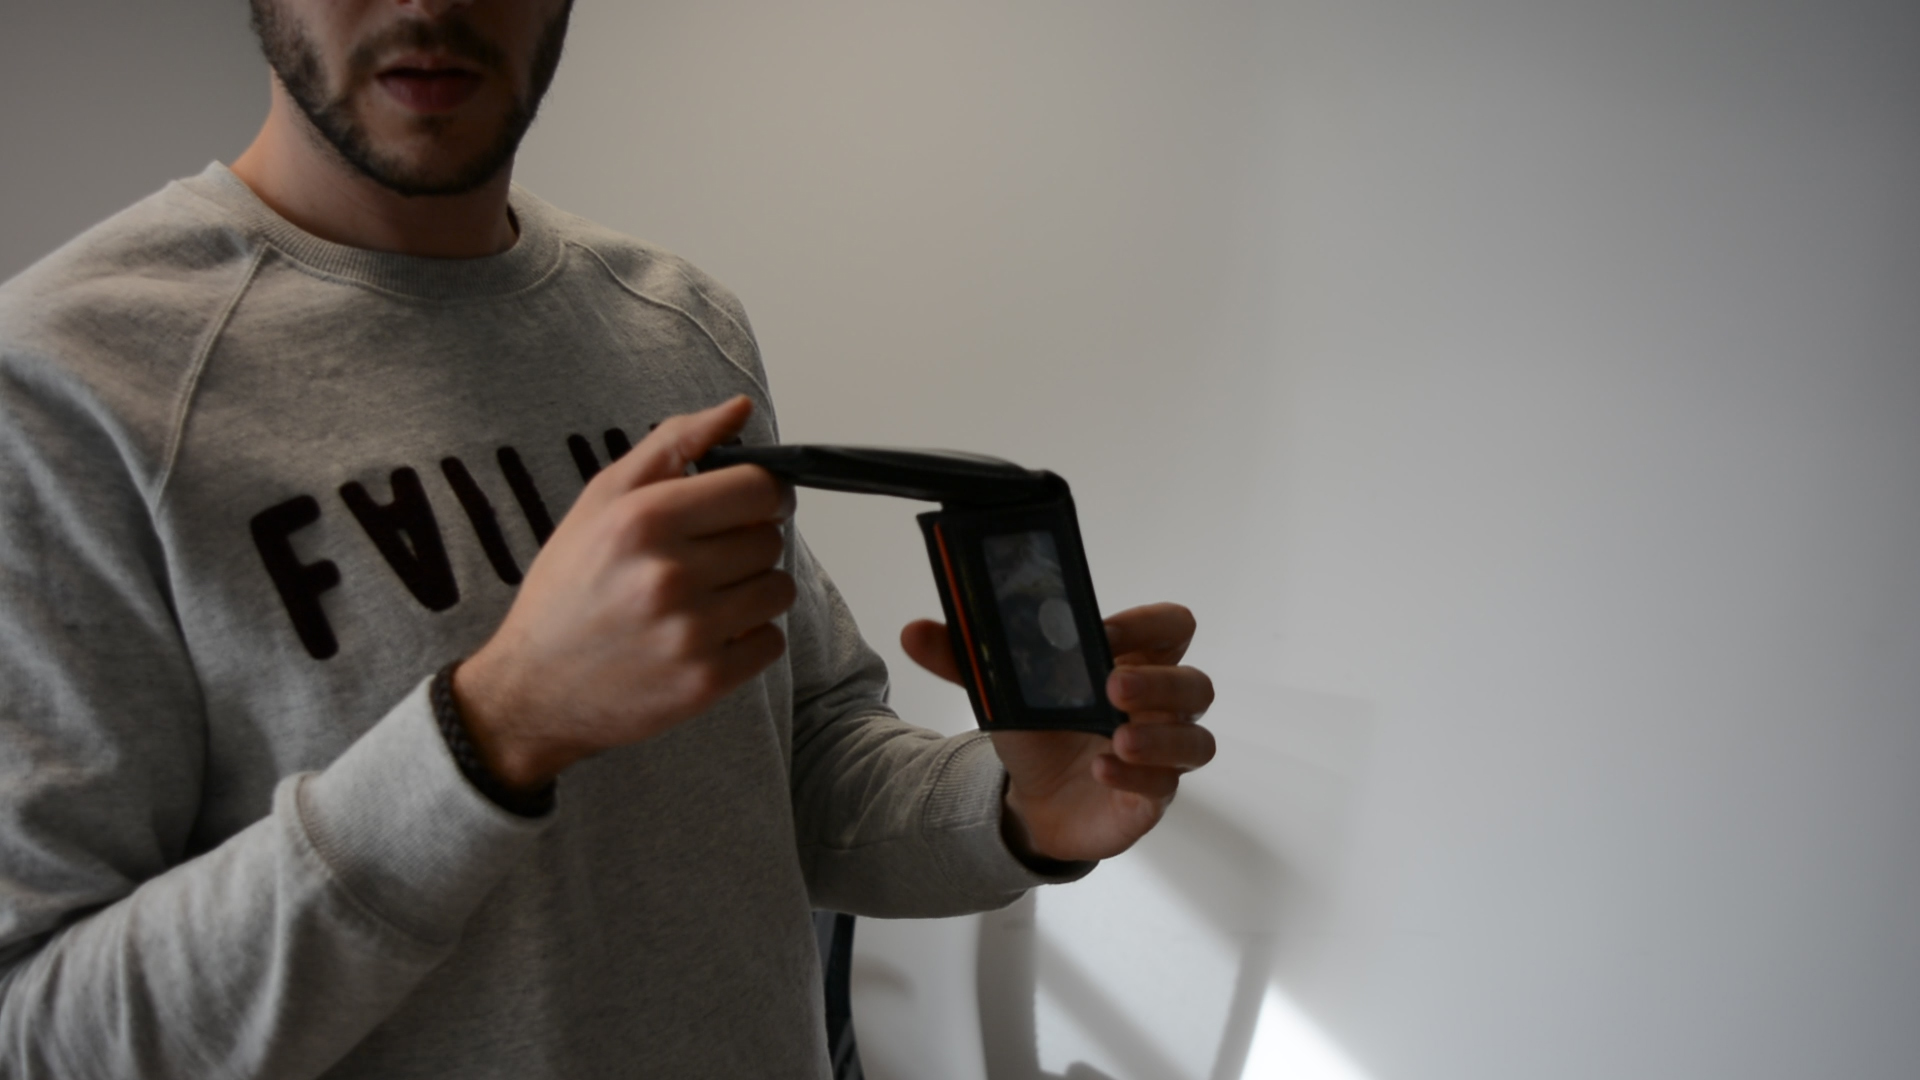monedero: (684, 440, 1135, 742)
